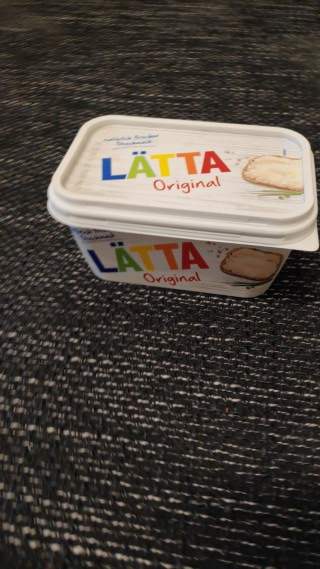laetta: (47, 112, 320, 299)
